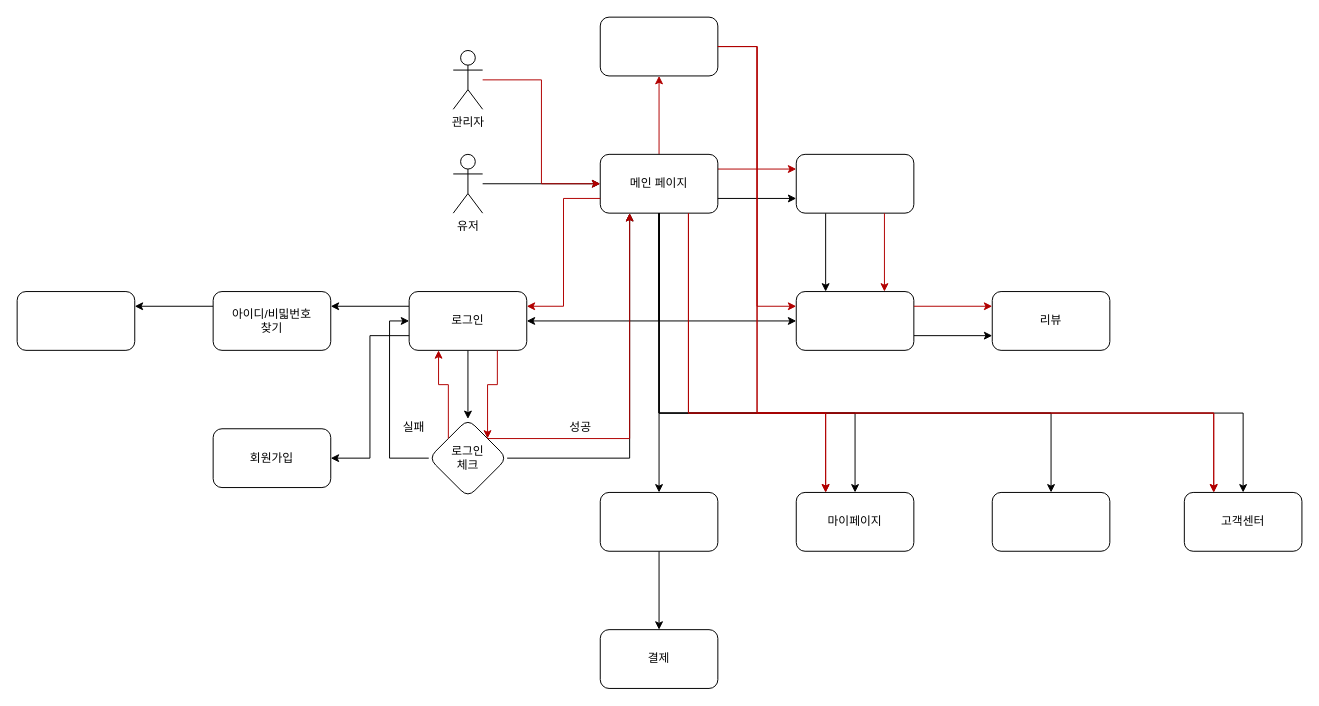
This 1319x706 diagram has some shape labels left out. Here are the shapes that lost their labels. From the top down, the centre of each, then its label:
point 658,46: 관리자 페이지
point 854,183: 리스트 페이지
point 75,320: 인증
point 854,320: 상세 페이지
point 658,521: 장바구니
point 1050,521: 찜목록
